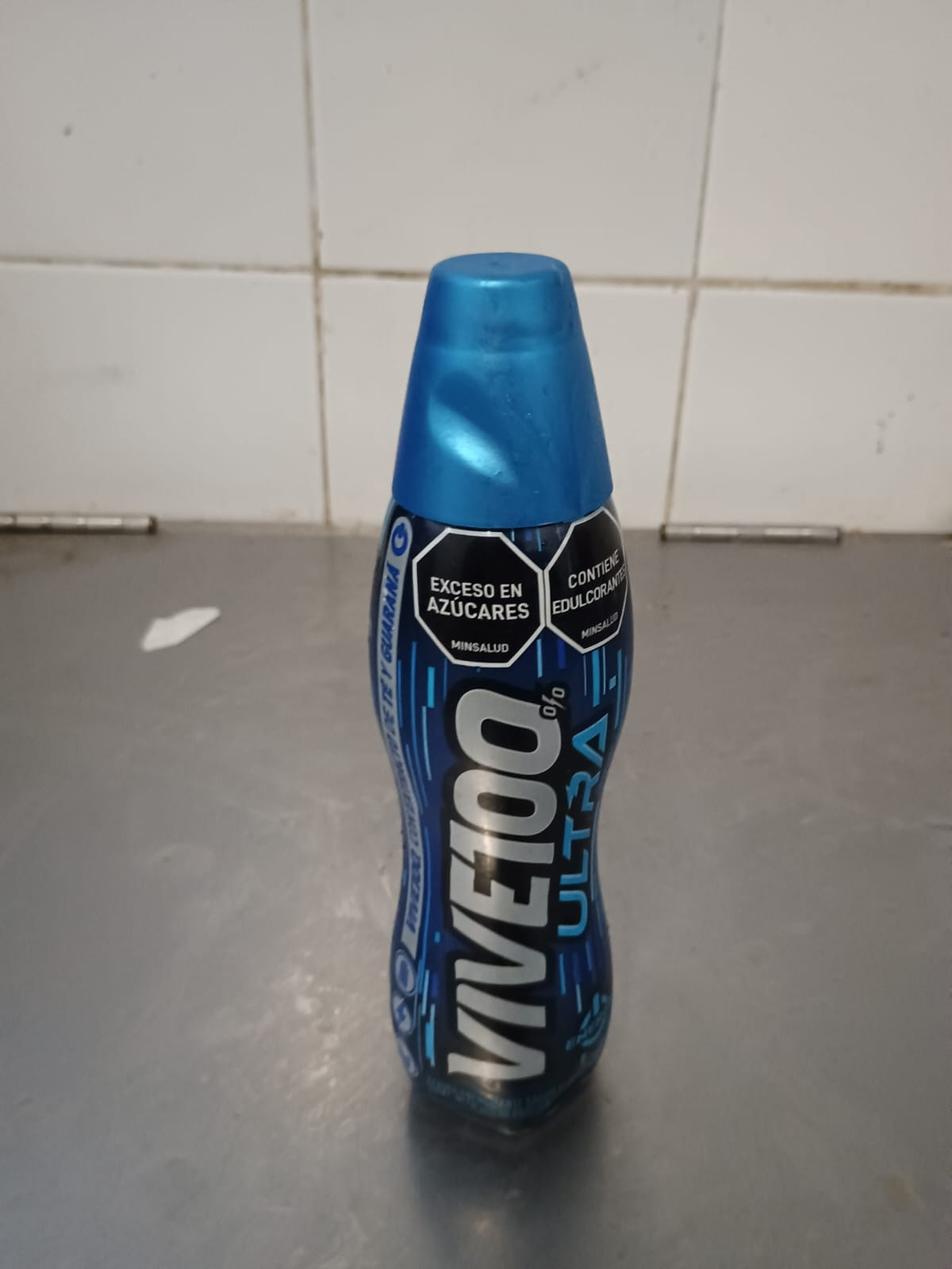Plastico: (375, 255, 637, 1124)
